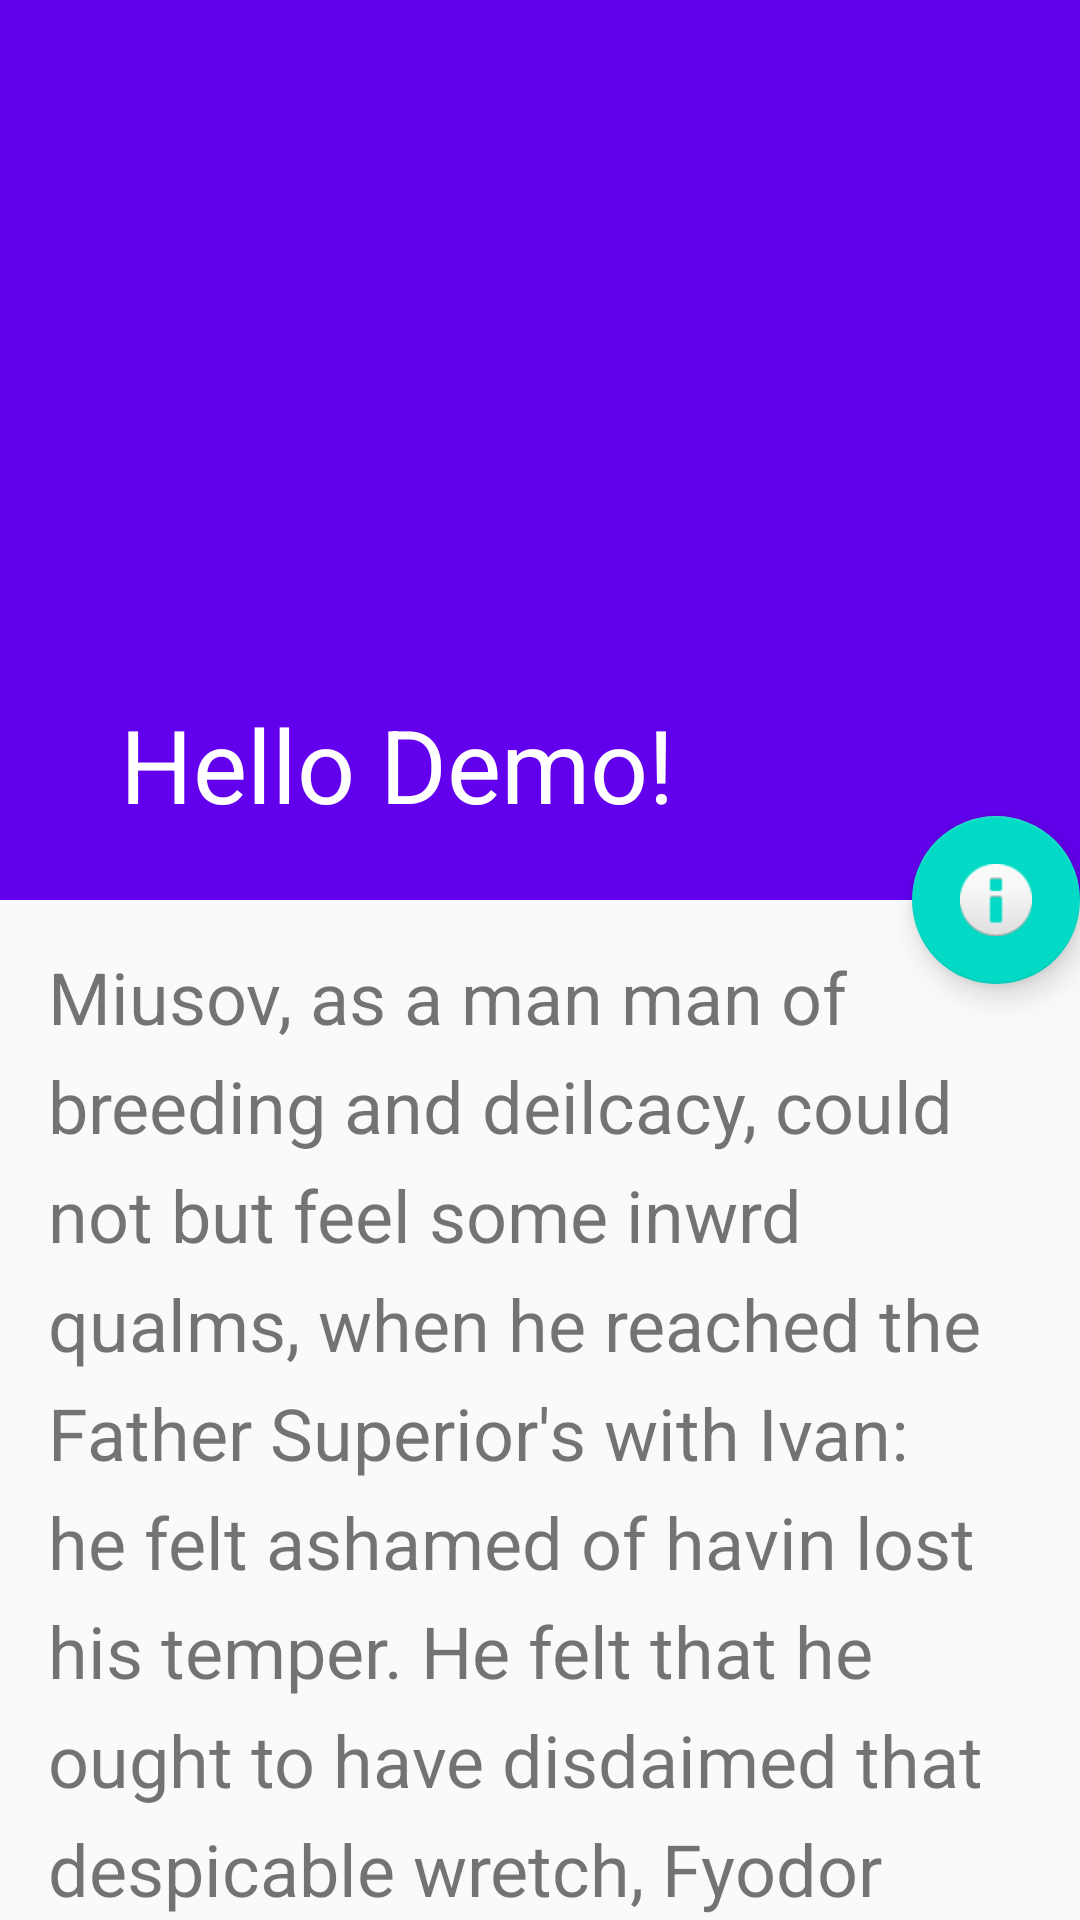

Named icons in this screenshot (1080x1920) and their centers, point (x, y):
info: point (996, 900)
